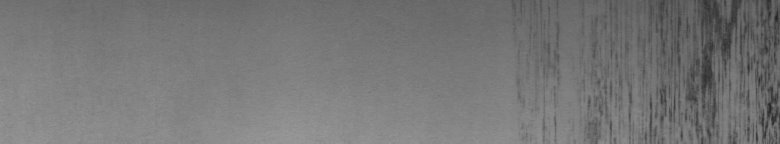ka: (543, 4, 776, 136)
